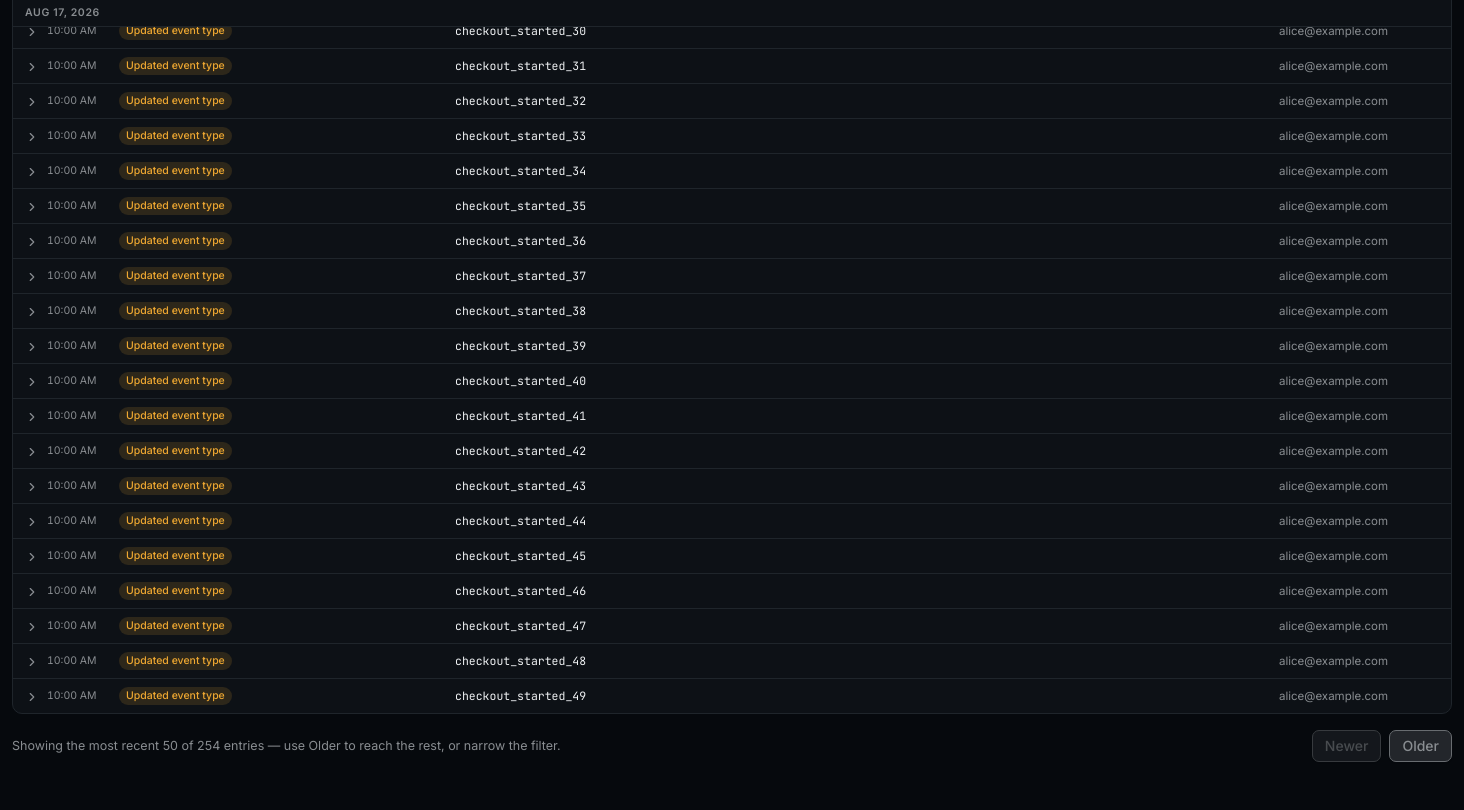
AuditTab — paging (tripl-5ydt) › steps Older and Newer by exactly one page
The image size is (1464, 810).
(page scrolled)
Click the button "Older" at [1421, 746], box 1389,730 -> 1452,762
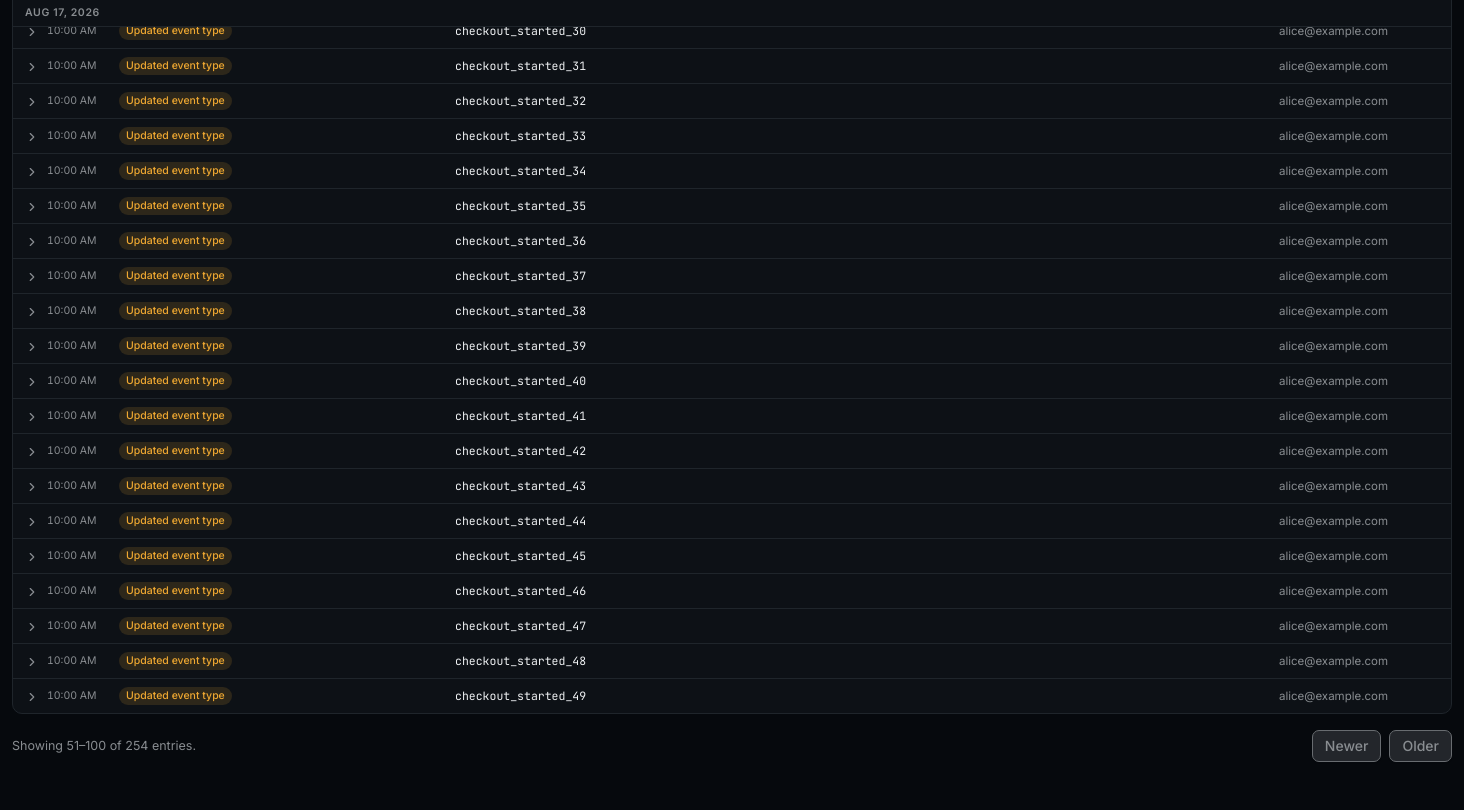
Check: the text "Showing 51–100 of 254 entries." is shown, box 12,737 -> 196,755
Click the button "Newer" at [1347, 746], box 1312,730 -> 1381,762
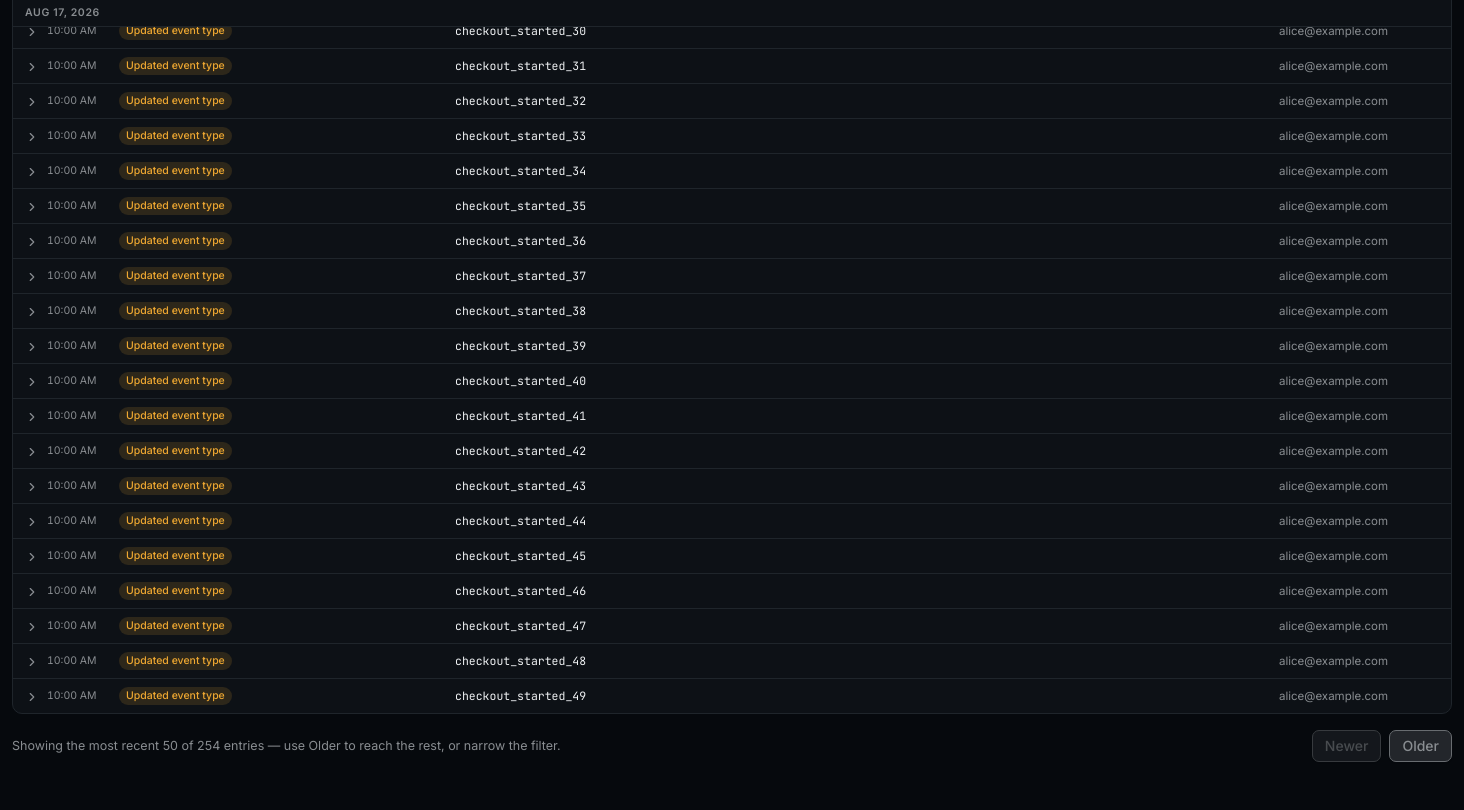
Check: the text "Showing the most recent 50 of 254 entries" is shown, box 12,738 -> 561,753
Check: the button "Newer" is disabled, box 1312,730 -> 1381,762
